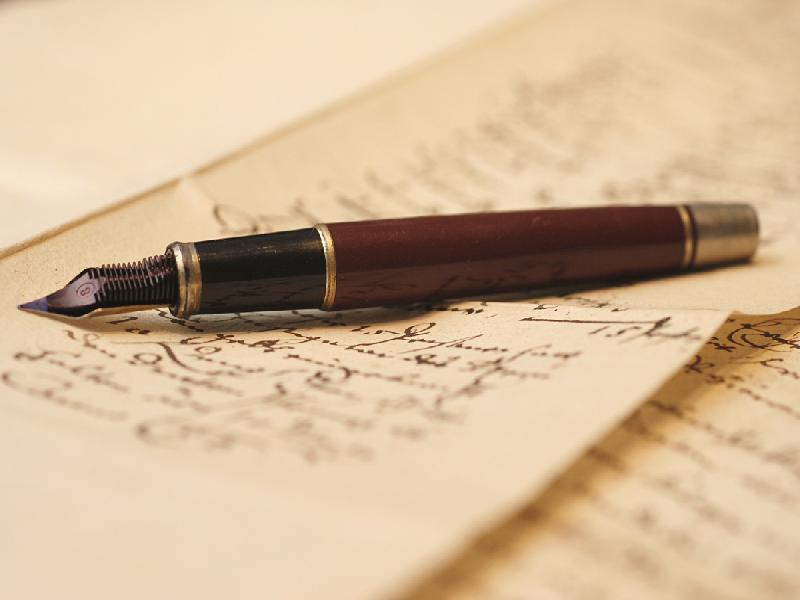pen: (14, 196, 772, 329)
